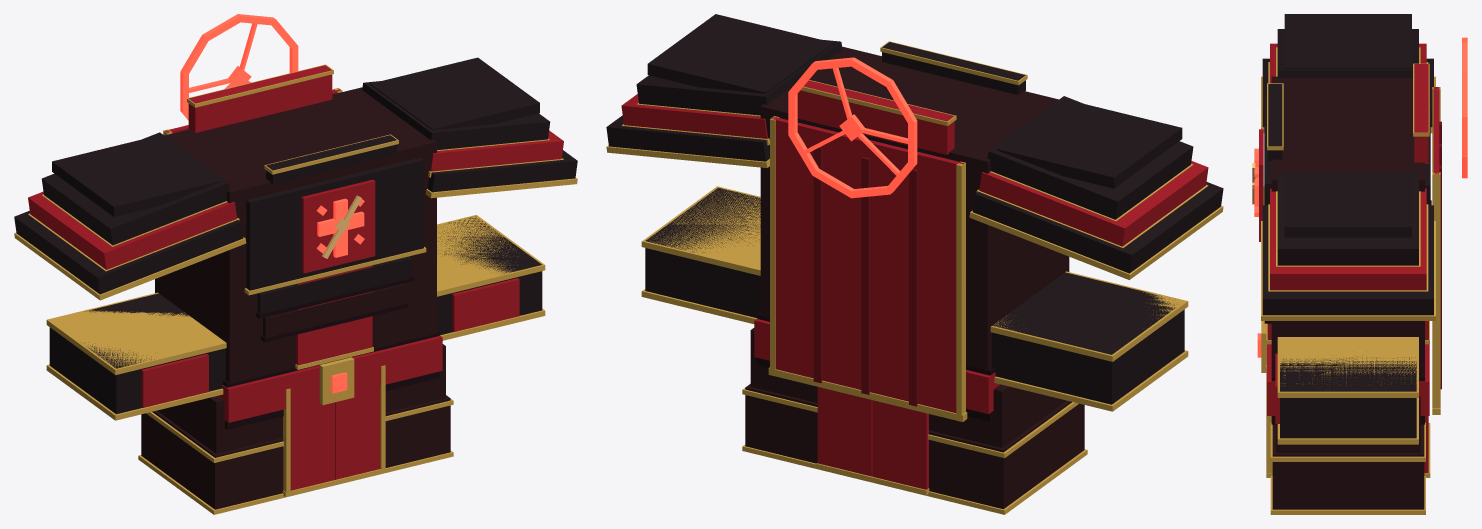
3 views of the same model, side by side, from view 1: azimuth 30°, elevation 25°; view 2: azimuth 150°, elevation 25°; view 3: azimuth 270°, elevation 25° (orthographic). The views are drawn at different scales.
Parts seen in each view (by area): view 1: pyre-regalia; view 2: pyre-regalia; view 3: pyre-regalia.
Boxes of the visible parts, bbox=[...] form: pyre-regalia: bbox=[14, 14, 577, 514]; pyre-regalia: bbox=[606, 14, 1223, 514]; pyre-regalia: bbox=[1252, 14, 1467, 514].
Bounding box in the file's own units: 1.27 × 1.02 × 0.4827.
